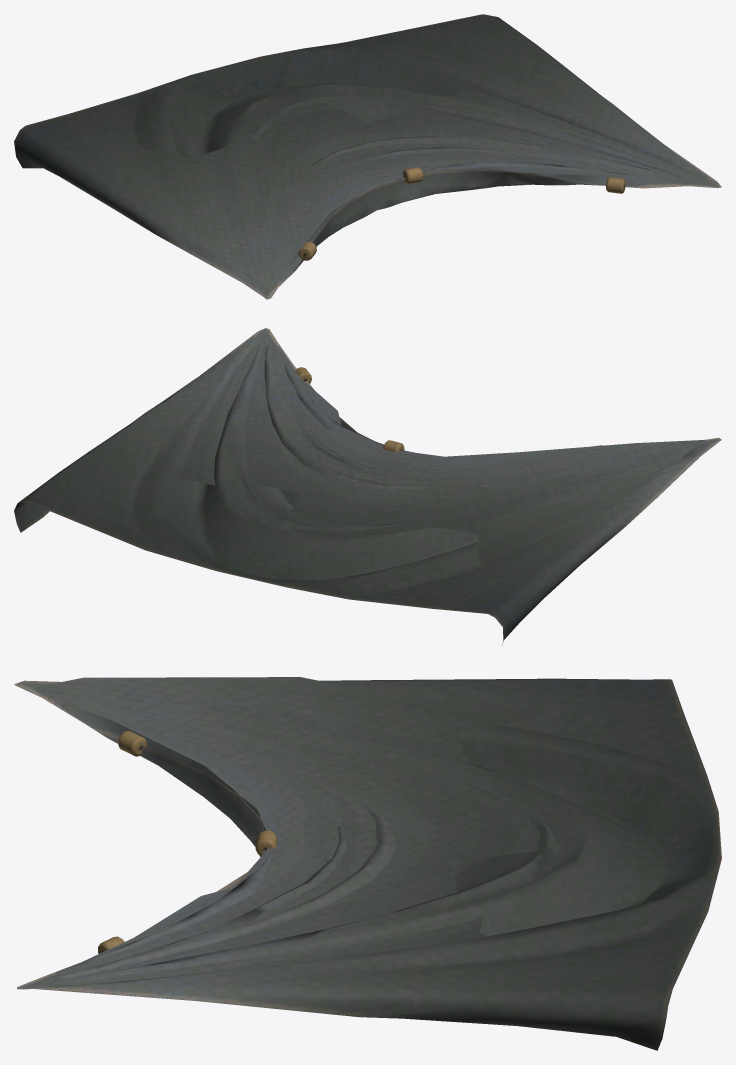
The model's file is hd_dec_AM_013_FishingNets_03.glb.
3 views of the same model, one above another, from view 1: azimuth 30°, elevation 25°; view 2: azimuth 150°, elevation 25°; view 3: azimuth 270°, elevation 25° (orthographic). The views are drawn at different scales.
Visible parts, largest first — view 1: set_0_group_0; view 2: set_0_group_0; view 3: set_0_group_0.
Part boxes in pixels (bbox=[...]): set_0_group_0: bbox=[14, 14, 721, 299]; set_0_group_0: bbox=[14, 328, 721, 644]; set_0_group_0: bbox=[14, 677, 721, 1050].
Bounding box in the file's own units: 2.32 × 0.2026 × 2.1.
Materials: 1 (1 with a texture image).
